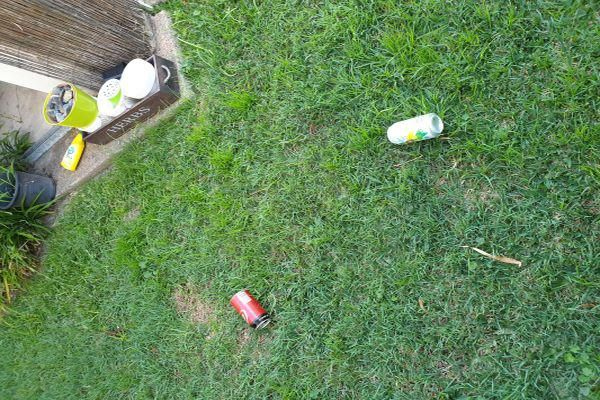Plastic Bottle: (387, 113, 444, 145), (229, 290, 271, 330)
